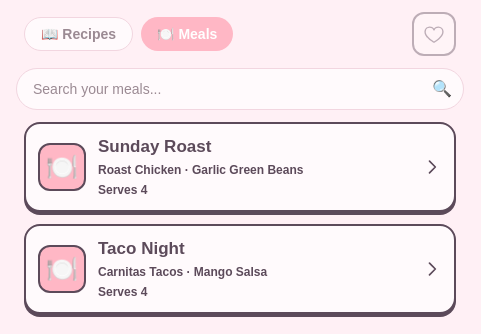
it: Meals tab search (issue #904) › finds a meal by a dish title, main or side, case-insensitively
Step 1. Type "GREEN BEANS" into the field with placeholder "Search your meals..." → (240, 89), box [16,68,464,110]
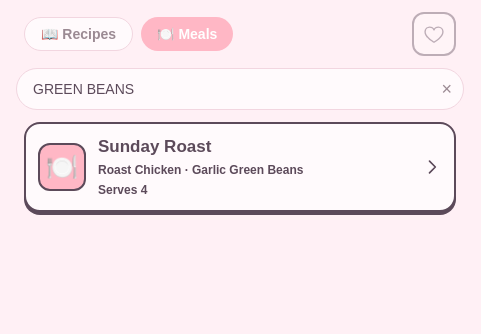
Check: the list item shows "Sunday Roast", box [26,124,454,210]
Check: the number of list items is 1, box [24,122,456,212]
Step 2. Replace the text in the field with placeholder "Search your meals..." with "carnitas" → (240, 89), box [16,68,464,110]
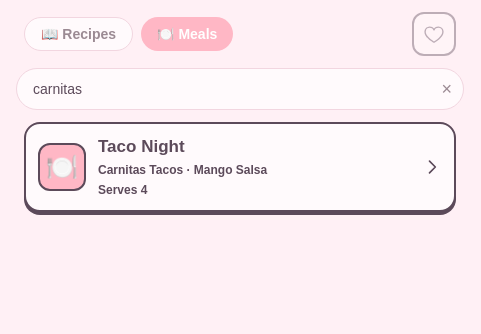
Check: the number of list items is 1, box [24,122,456,212]
Check: the list item shows "Taco Night", box [26,124,454,210]
